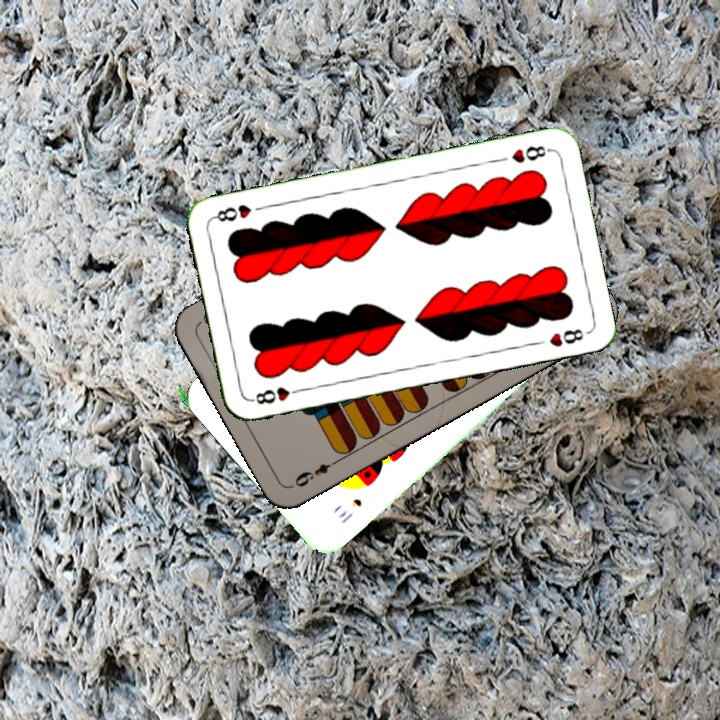E9: (288, 455, 342, 490)
H8: (247, 383, 306, 407), (507, 141, 553, 166)
S10: (334, 494, 365, 527)
